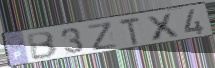3: (60, 27, 86, 55)
4: (183, 7, 206, 35)
B: (25, 30, 60, 61)
T: (118, 16, 143, 46)
X: (144, 12, 181, 42)
Z: (86, 21, 120, 52)
